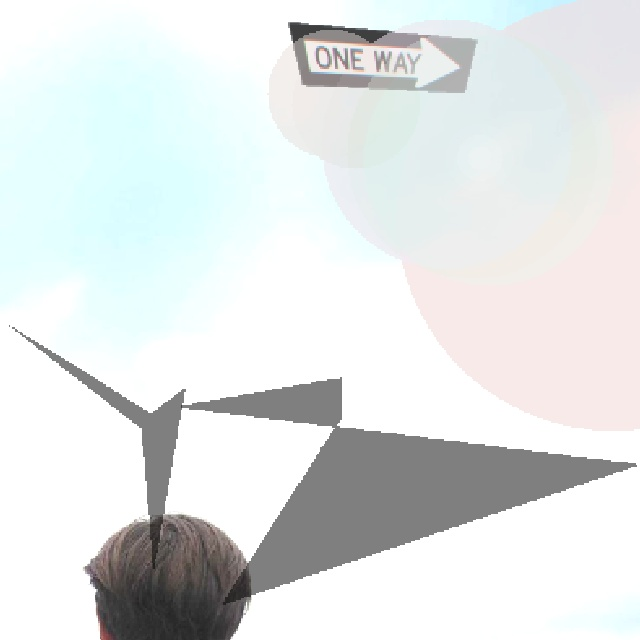ONE_WAY_ right: (286, 20, 476, 92)
